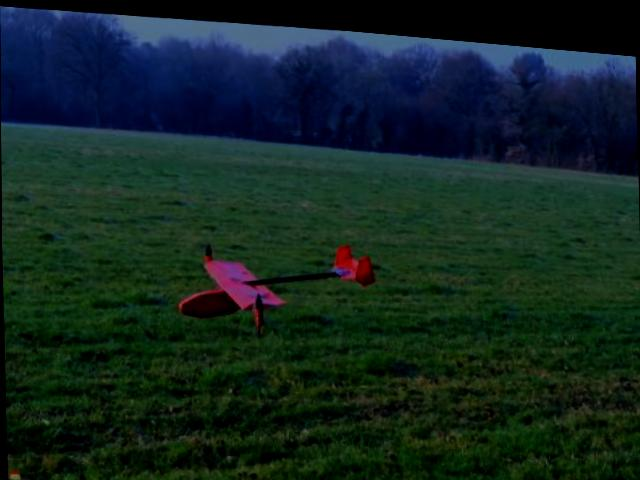uav: (175, 223, 383, 329)
